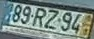4: (70, 13, 80, 34)
8: (11, 4, 22, 23)
9: (60, 11, 73, 32), (19, 5, 32, 25)
R: (32, 7, 47, 28)
Z: (43, 8, 59, 30)
